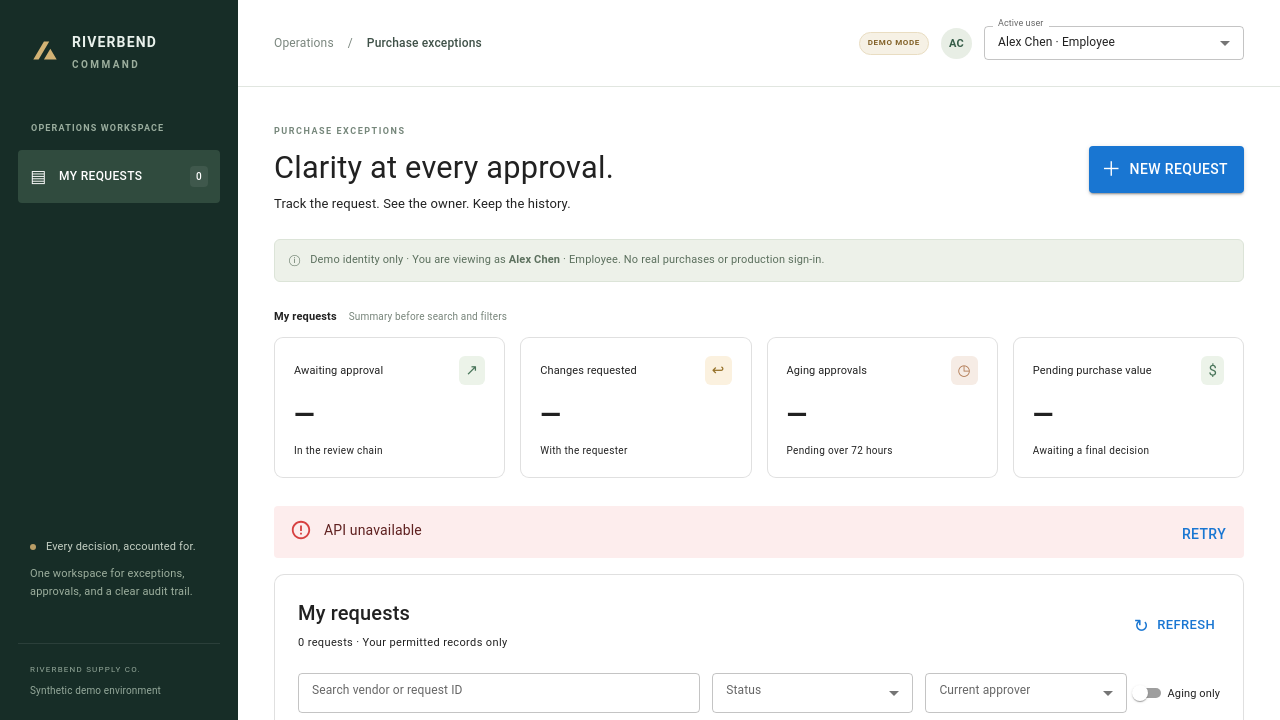
exposes API failure with a working retry rather than fake queue data
The image size is (1280, 720).
Click the button "Retry": [1204, 534] box [1172, 516, 1236, 552]
(page scrolled)
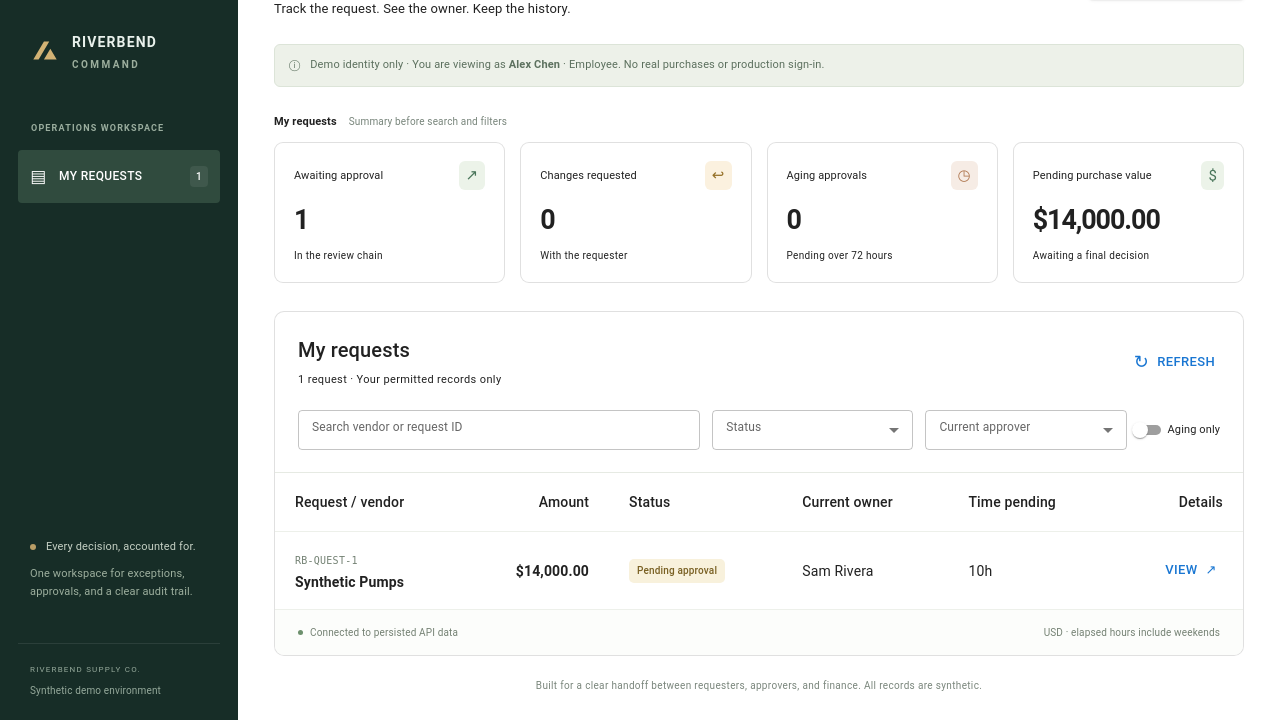
Expected: the button with aria-label "View Synthetic Pumps request" is shown, [1159, 555, 1223, 586]
